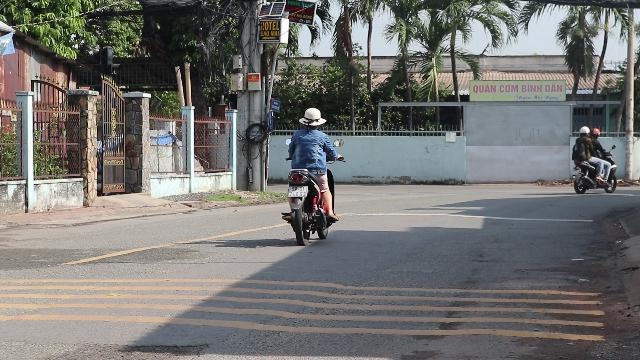licenseplate: (288, 186, 308, 196)
motorcyclist: (280, 106, 340, 244)
nohelmet: (299, 106, 325, 132)
